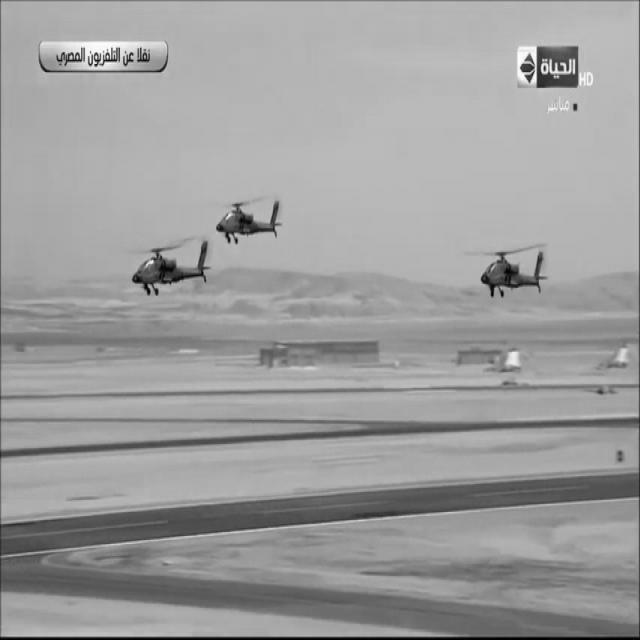helikopter: (122, 221, 214, 296), (466, 234, 556, 306), (220, 176, 294, 255)
